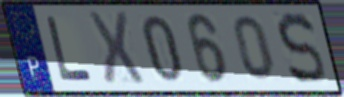0: (139, 13, 187, 84), (232, 13, 279, 84)
6: (186, 12, 231, 86)
L: (43, 14, 96, 84)
S: (274, 9, 328, 87)
X: (84, 9, 148, 88)
